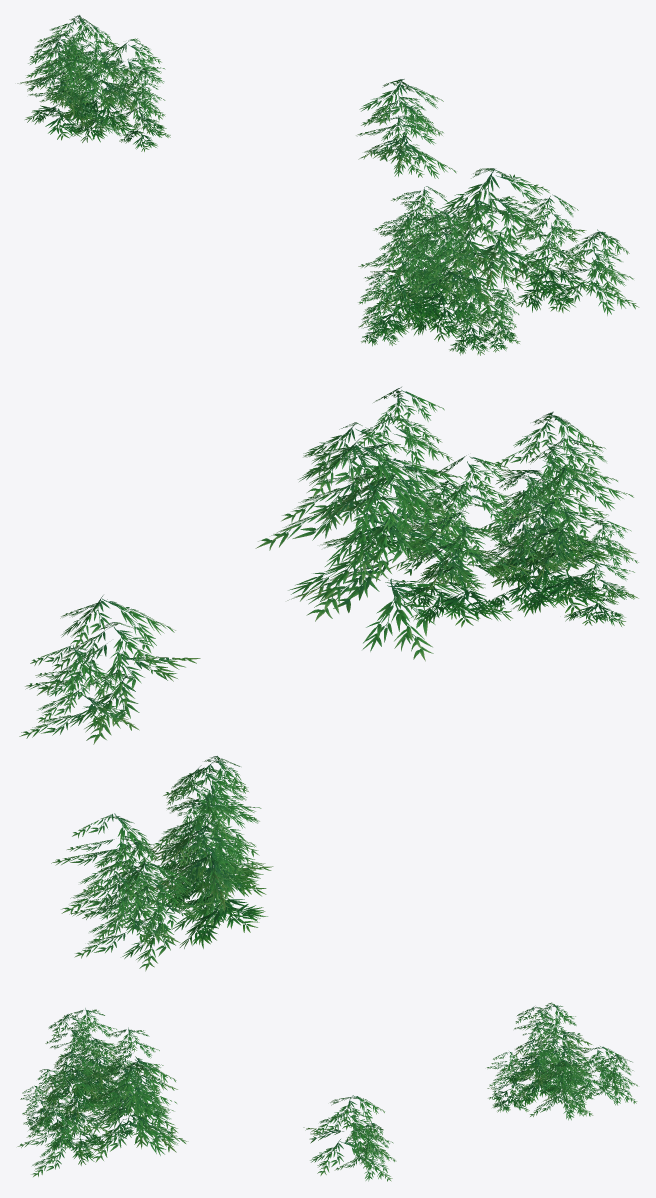
The model's file is Area_09_45.fbx.
The picture shows the model from 3 angles, top to bottom: view 1: azimuth 30°, elevation 25°; view 2: azimuth 150°, elevation 25°; view 3: azimuth 270°, elevation 25°; orthographic projection. The views are drawn at different scales.
Visible parts, largest first — view 1: Area_09_45; view 2: Area_09_45; view 3: Area_09_45.
Part boxes in pixels (x1,y1,x2,y2): Area_09_45: [17, 15, 639, 355]; Area_09_45: [19, 387, 638, 971]; Area_09_45: [17, 1002, 637, 1181].
Size of the model in its own units: 2872 by 1285 by 6613.
